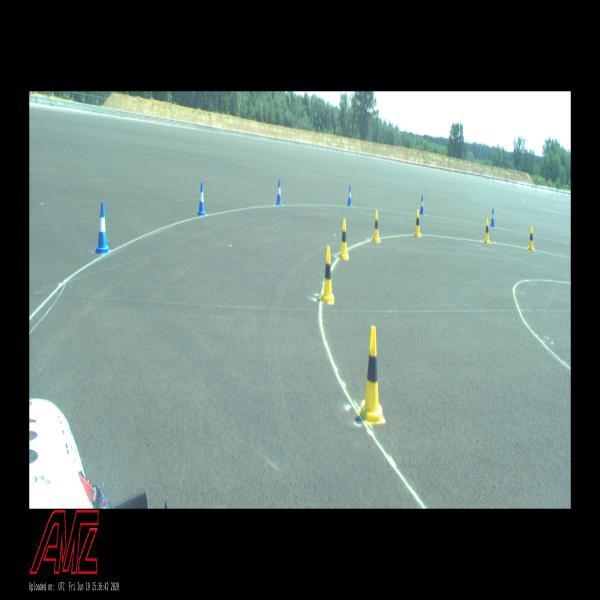blue_cone: (95, 201, 110, 254), (197, 182, 206, 216), (276, 180, 282, 204), (347, 185, 352, 206), (419, 195, 424, 215), (490, 208, 495, 227)
yellow_cone: (358, 326, 386, 424), (321, 246, 334, 304), (339, 219, 349, 260), (372, 210, 381, 242), (414, 209, 422, 237), (484, 218, 490, 244), (528, 226, 534, 251)
